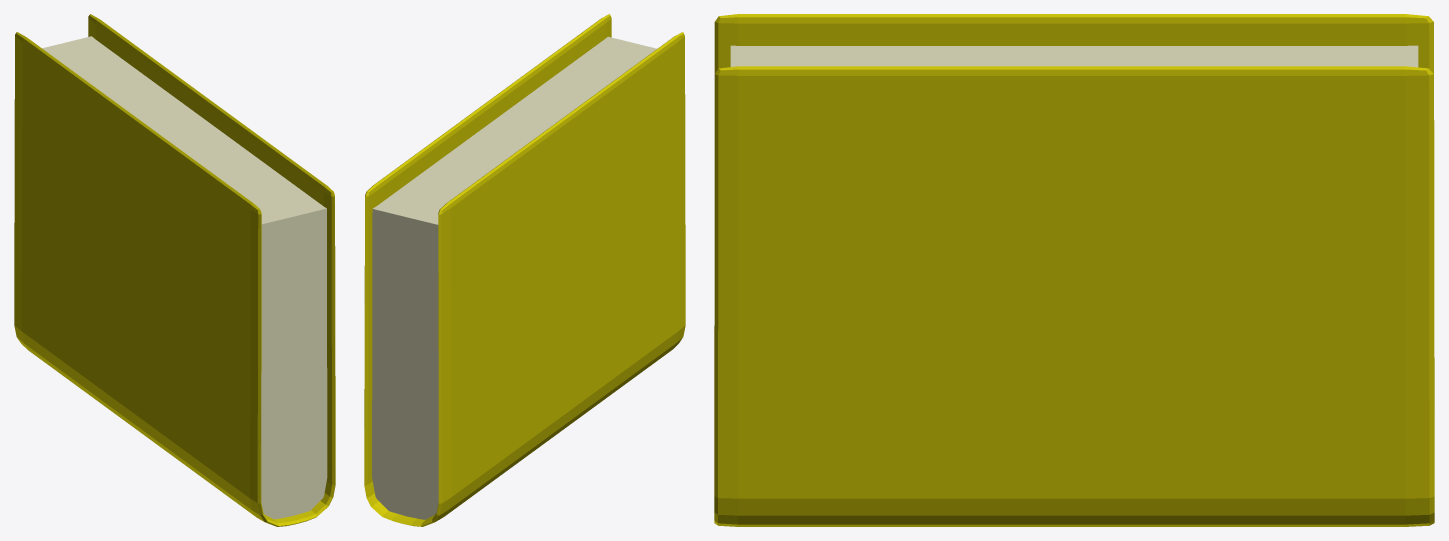
The model's file is closedBook_yellow.fbx.
3 views of the same model, side by side, from view 1: azimuth 30°, elevation 25°; view 2: azimuth 150°, elevation 25°; view 3: azimuth 270°, elevation 25° (orthographic). The views are drawn at different scales.
Parts seen in each view (by area): view 1: book_cover, book_pages; view 2: book_cover, book_pages; view 3: book_cover, book_pages.
Part boxes in pixels (bbox=[...]): book_cover: bbox=[14, 14, 335, 526]; book_pages: bbox=[42, 36, 327, 519]; book_cover: bbox=[364, 14, 685, 526]; book_pages: bbox=[372, 36, 656, 519]; book_cover: bbox=[714, 14, 1434, 526]; book_pages: bbox=[730, 45, 1418, 67].
Bounding box in the file's own units: 4.33 × 16.92 × 23.23.
